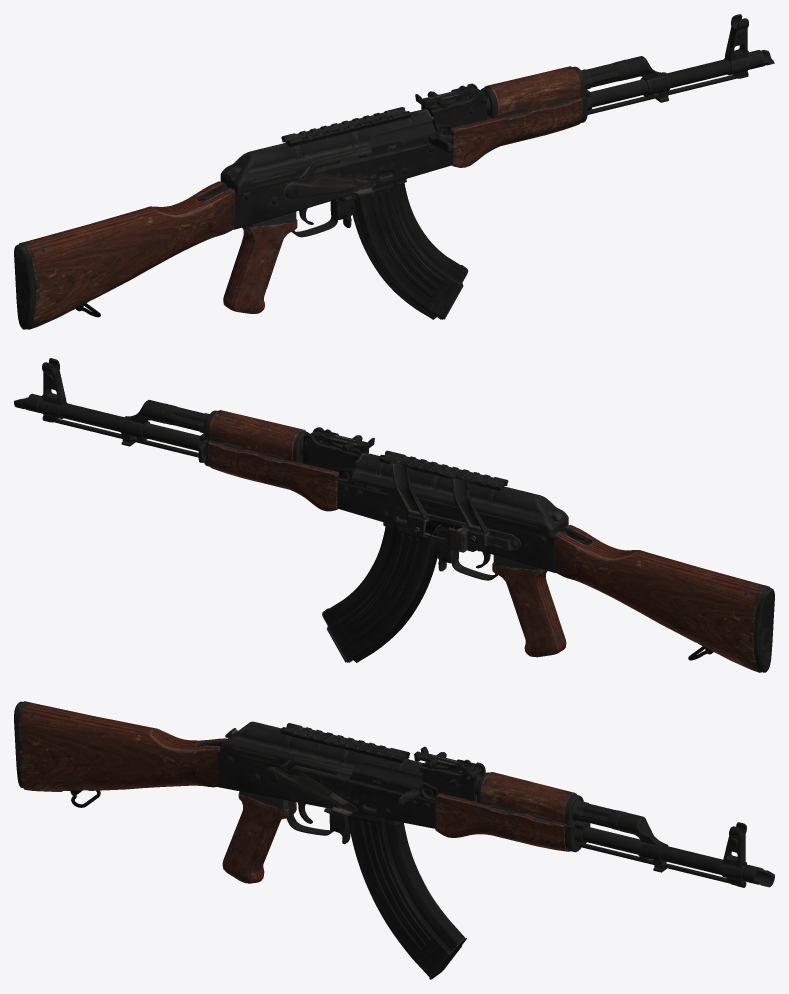
The picture shows the model from 3 angles, top to bottom: view 1: azimuth 30°, elevation 25°; view 2: azimuth 150°, elevation 25°; view 3: azimuth 330°, elevation 25°; orthographic projection.
Parts seen in each view (by area): view 1: vm_h1_ak47_LOD0; view 2: vm_h1_ak47_LOD0; view 3: vm_h1_ak47_LOD0.
Part boxes in pixels (bbox=[...]): vm_h1_ak47_LOD0: bbox=[14, 14, 774, 329]; vm_h1_ak47_LOD0: bbox=[14, 358, 774, 672]; vm_h1_ak47_LOD0: bbox=[14, 701, 774, 979].
Size of the model in its own units: 102 by 29.55 by 9.71.
Materials: 7 (7 with a texture image).
